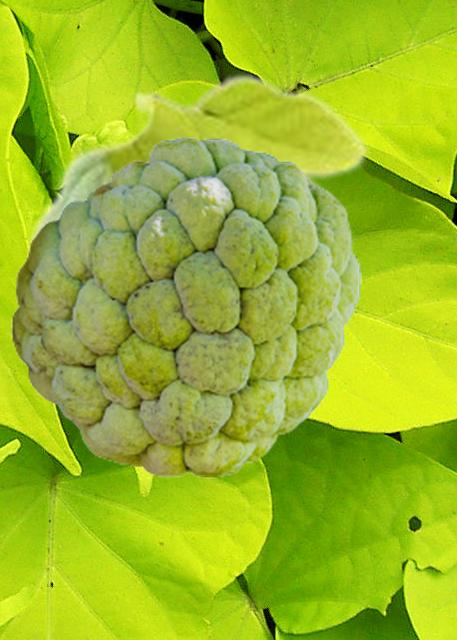atis: (11, 137, 360, 477), (24, 71, 369, 329)
